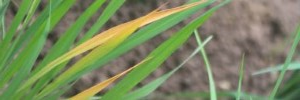RiceTungro: (72, 64, 146, 100), (89, 10, 184, 34)
